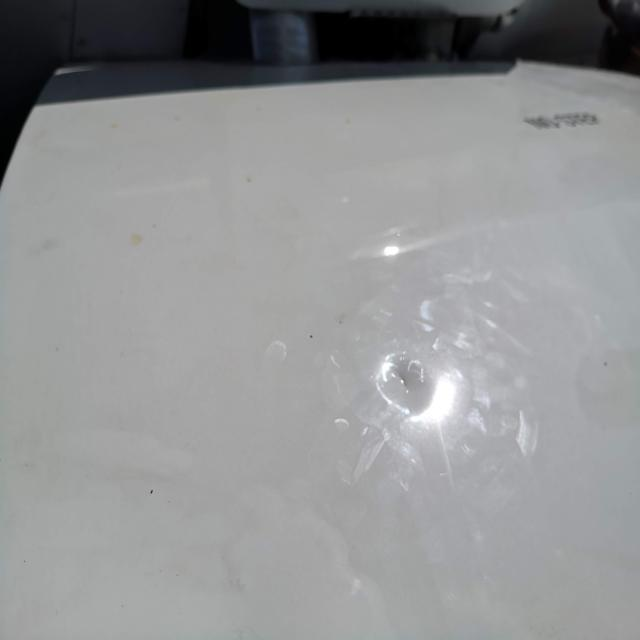dent: (343, 308, 465, 439)
